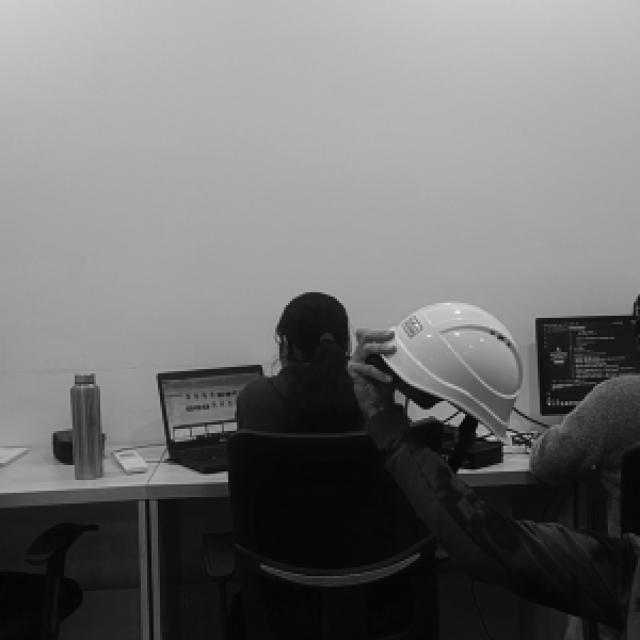safety_helmet: (381, 298, 522, 444)
